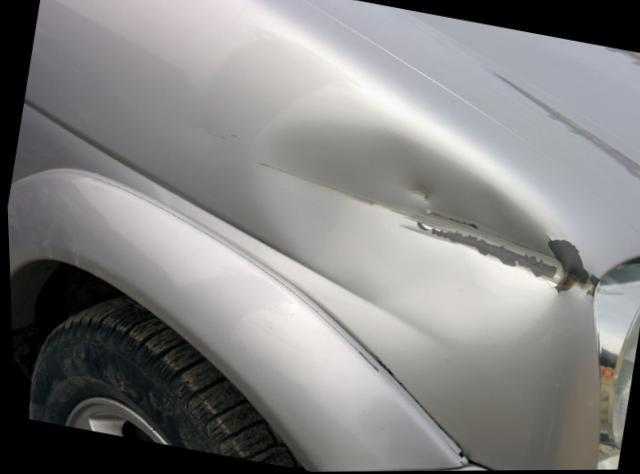dent: (254, 112, 562, 347)
